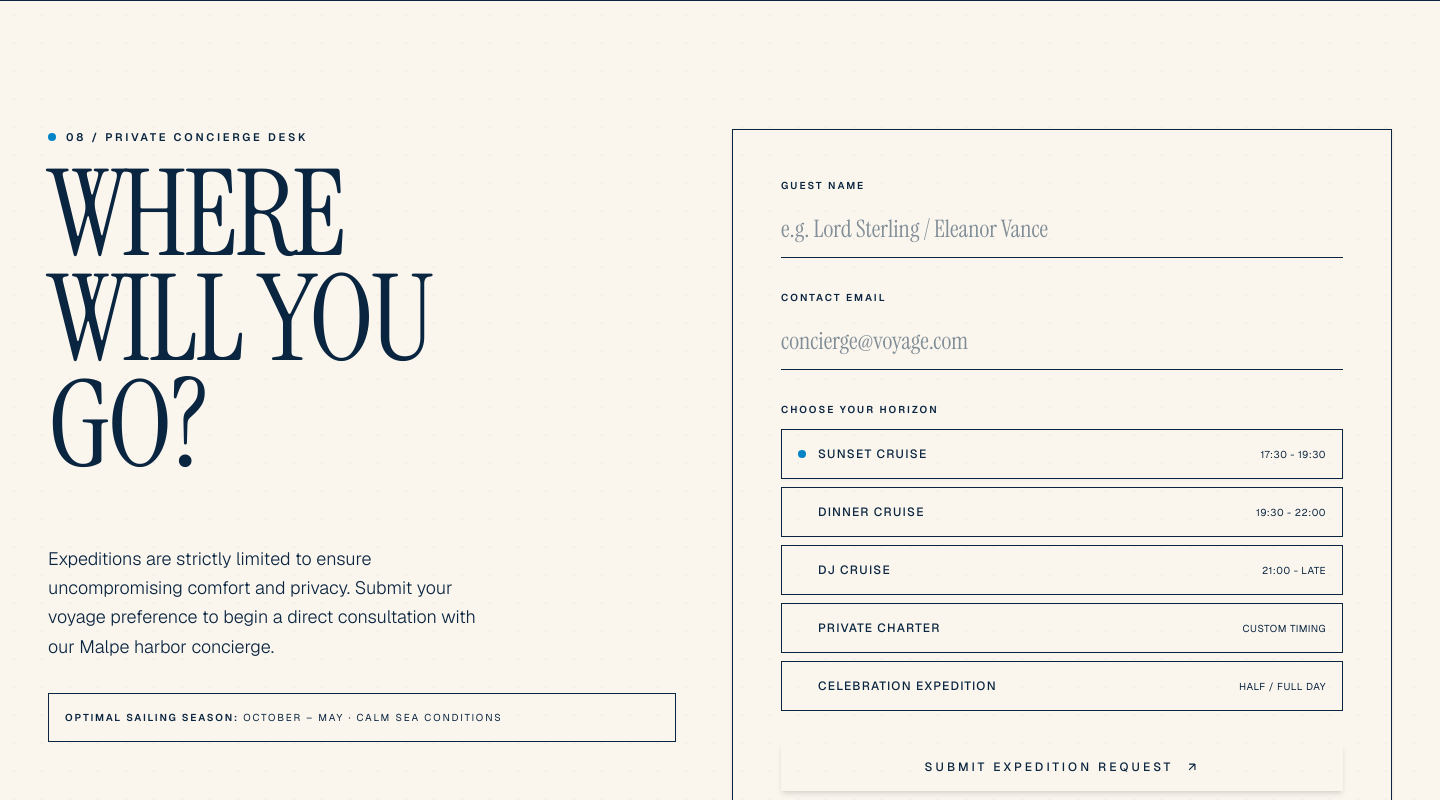
ActFiveBooking › validates input on empty submission and displays errors
Click the button "SUBMIT EXPEDITION REQUEST" at (1062, 767), box [781,743,1343,791]
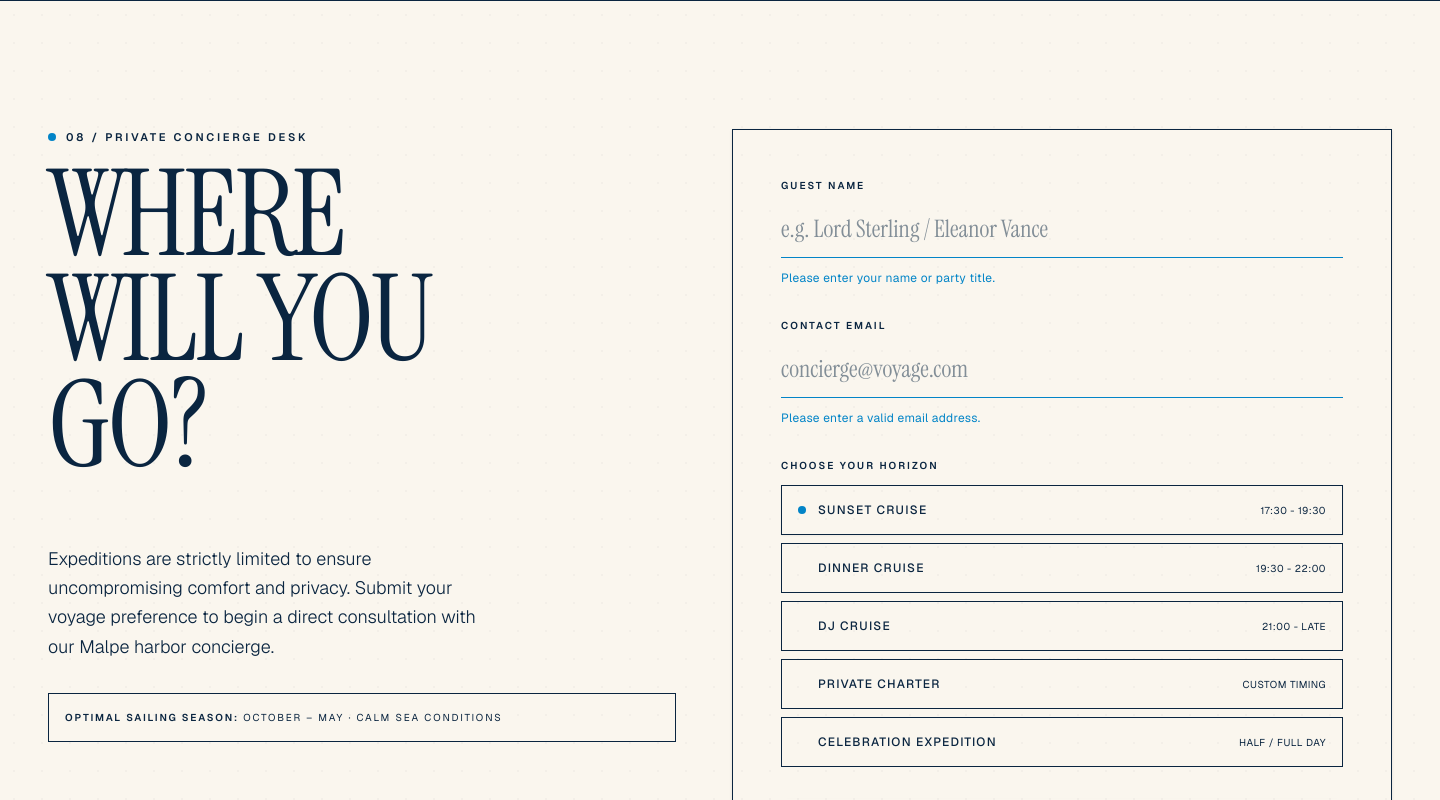
Expected: the text "Please enter your name or party title." is shown, [781,270,995,286]
Expected: the text "Please enter a valid email address." is shown, [781,410,980,426]
